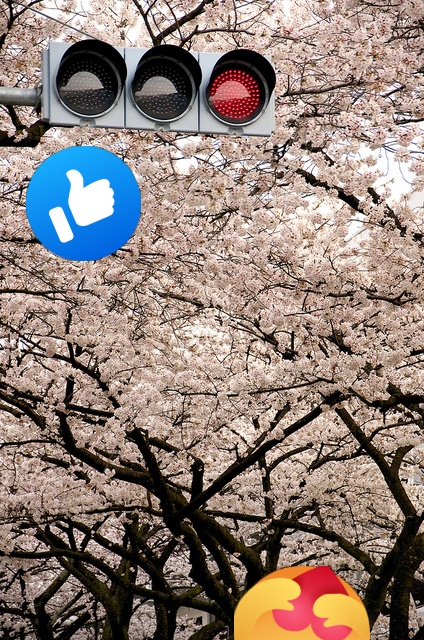care: (234, 566, 370, 640)
like: (26, 146, 141, 261)
